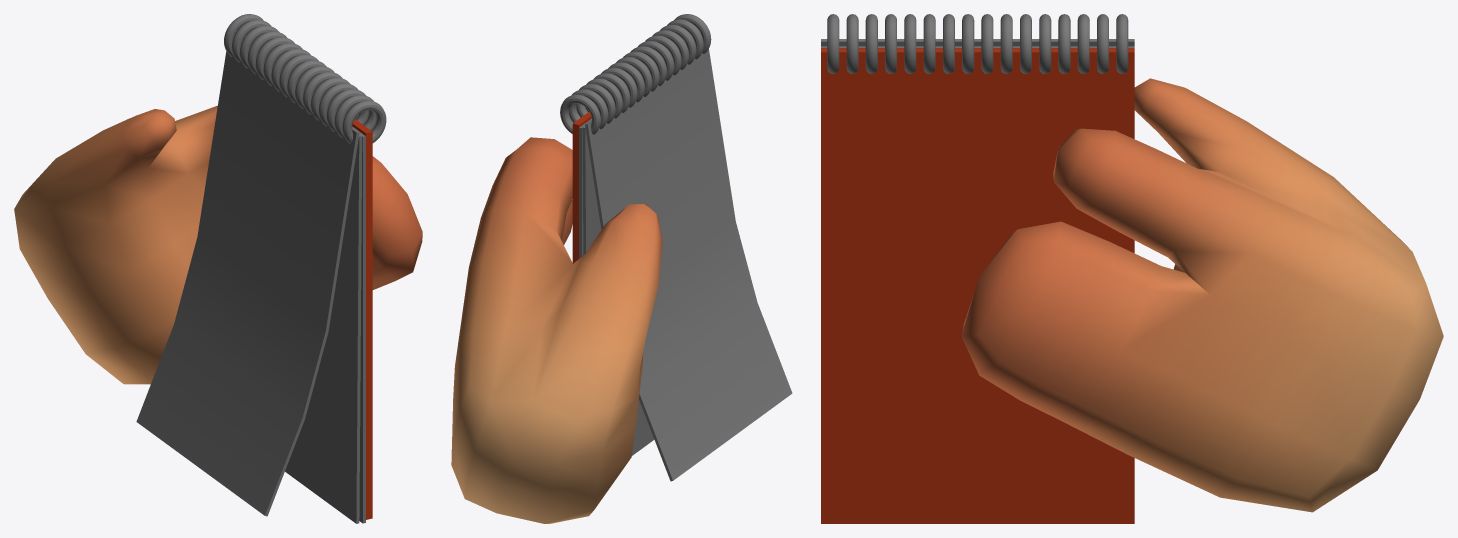
File: mao caderno da punheta.fbx
3 renders of one model, left to right at view 1: azimuth 30°, elevation 25°; view 2: azimuth 150°, elevation 25°; view 3: azimuth 270°, elevation 25°, orthographic. The views are drawn at different scales.
Parts seen in each view (by area): view 1: Torus, Cube.001; view 2: Cube.001, Torus; view 3: Cube.001, Torus.
Part boxes in pixels (left/top/right/bottom): Torus: left=136, top=14, right=386, bottom=523; Cube.001: left=14, top=105, right=422, bottom=384; Cube.001: left=451, top=137, right=662, bottom=523; Torus: left=560, top=14, right=792, bottom=481; Cube.001: left=961, top=78, right=1443, bottom=512; Torus: left=821, top=14, right=1134, bottom=523.
Bounding box in the file's own units: 233 × 358 × 397.
